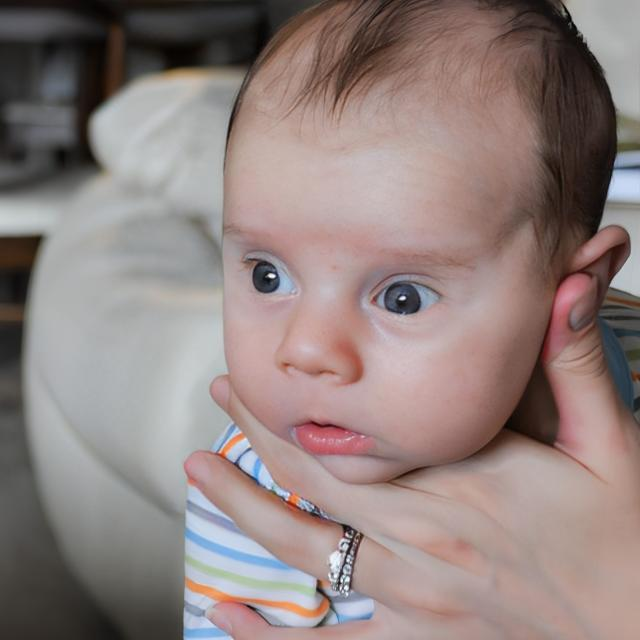surprise: (222, 45, 560, 486)
